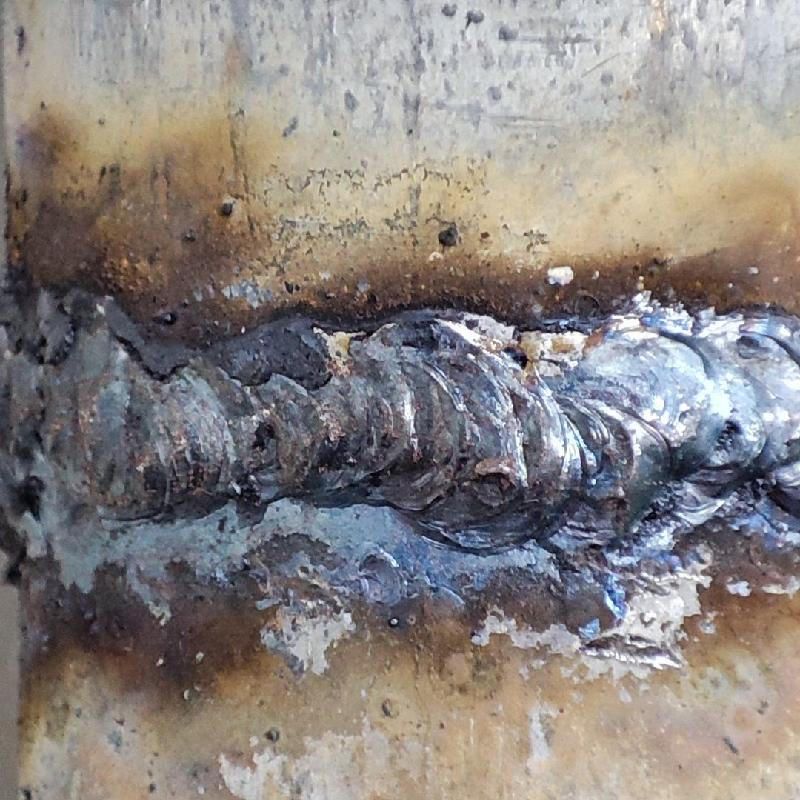good: (1, 275, 799, 552)
